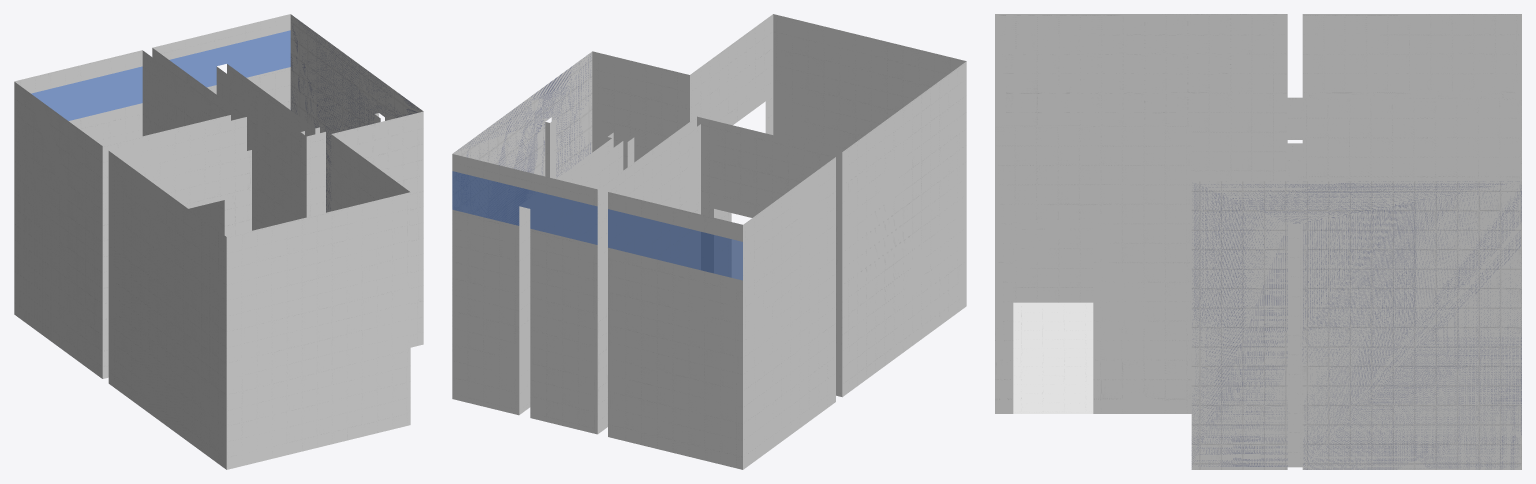
File: COM005.obj
3 views of the same model, side by side, from view 1: azimuth 30°, elevation 25°; view 2: azimuth 150°, elevation 25°; view 3: azimuth 270°, elevation 25° (orthographic). The views are drawn at different scales.
Visible parts, largest first — view 1: Mesh1 COM005 Model; view 2: Mesh1 COM005 Model; view 3: Mesh1 COM005 Model.
Boxes of the visible parts, box(x1,y1,x2,y2) form: Mesh1 COM005 Model: box(14, 14, 423, 469); Mesh1 COM005 Model: box(452, 14, 966, 469); Mesh1 COM005 Model: box(995, 14, 1521, 469).
Size of the model in its own units: 3.74 by 3.02 by 4.98.
Materials: 4 (1 with a texture image).
